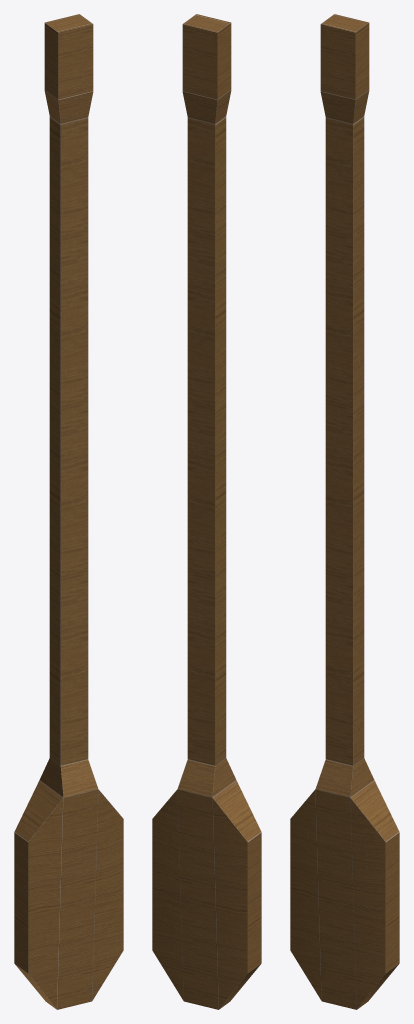
Rendered from Oar.fbx.
3 renders of one model, left to right at view 1: azimuth 30°, elevation 25°; view 2: azimuth 150°, elevation 25°; view 3: azimuth 330°, elevation 25°, orthographic.
Visible parts, largest first — view 1: pCube1; view 2: pCube1; view 3: pCube1.
Boxes of the visible parts, box(x1,y1,x2,y2) form: pCube1: box(14, 14, 123, 1009); pCube1: box(152, 14, 261, 1009); pCube1: box(290, 14, 399, 1009).
Bounding box in the file's own units: 1.28 × 12.54 × 0.5589.
